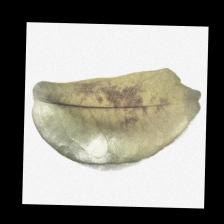black spot: (73, 88, 162, 136)
